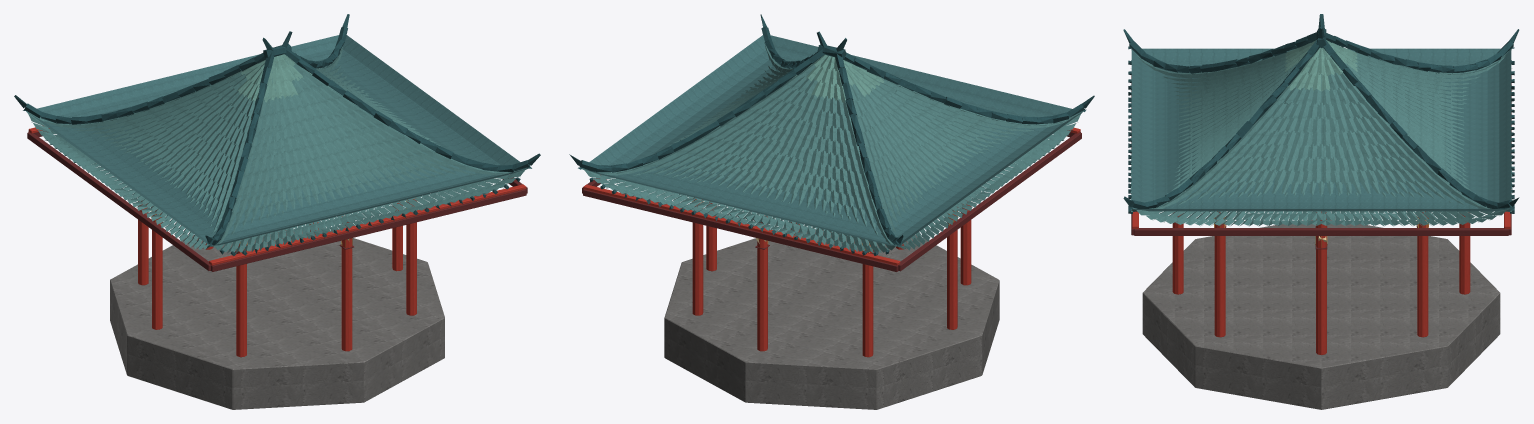
Rendered from reference-public_models_places-low_dicuiting.glb.
3 views of the same model, side by side, from view 1: azimuth 30°, elevation 25°; view 2: azimuth 150°, elevation 25°; view 3: azimuth 270°, elevation 25° (orthographic). The views are drawn at different scales.
Visible parts, largest first — view 1: r15_dicuiting_stone, r15_dicuiting_tile, r15_dicuiting_roof, r15_dicuiting_wood, r15_dicuiting_tiledark, r15_dicuiting_darkwood, r15_dicuiting_tilelight; view 2: r15_dicuiting_stone, r15_dicuiting_tile, r15_dicuiting_roof, r15_dicuiting_wood, r15_dicuiting_tiledark, r15_dicuiting_darkwood, r15_dicuiting_tilelight; view 3: r15_dicuiting_stone, r15_dicuiting_tile, r15_dicuiting_roof, r15_dicuiting_tiledark, r15_dicuiting_wood, r15_dicuiting_darkwood, r15_dicuiting_tilelight.
Part boxes in pixels (bbox=[...]): r15_dicuiting_stone: bbox=[110, 228, 444, 409]; r15_dicuiting_tile: bbox=[26, 46, 527, 253]; r15_dicuiting_roof: bbox=[26, 35, 527, 246]; r15_dicuiting_wood: bbox=[28, 127, 526, 357]; r15_dicuiting_tiledark: bbox=[14, 14, 540, 255]; r15_dicuiting_darkwood: bbox=[27, 131, 527, 271]; r15_dicuiting_tilelight: bbox=[226, 54, 330, 103]; r15_dicuiting_stone: bbox=[664, 228, 999, 409]; r15_dicuiting_tile: bbox=[582, 41, 1082, 253]; r15_dicuiting_roof: bbox=[582, 35, 1082, 246]; r15_dicuiting_wood: bbox=[583, 127, 1080, 357]; r15_dicuiting_tiledark: bbox=[569, 14, 1094, 255]; r15_dicuiting_darkwood: bbox=[582, 132, 1081, 271]; r15_dicuiting_tilelight: bbox=[795, 54, 884, 102]; r15_dicuiting_stone: bbox=[1142, 219, 1500, 409]; r15_dicuiting_tile: bbox=[1130, 46, 1512, 226]; r15_dicuiting_roof: bbox=[1131, 48, 1511, 211]; r15_dicuiting_tiledark: bbox=[1123, 14, 1519, 213]; r15_dicuiting_wood: bbox=[1132, 211, 1510, 354]; r15_dicuiting_darkwood: bbox=[1131, 75, 1511, 249]; r15_dicuiting_tilelight: bbox=[1285, 40, 1357, 91].
Size of the model in its own units: 11.15 by 9.68 by 11.07.
Materials: 9 (7 with a texture image).
